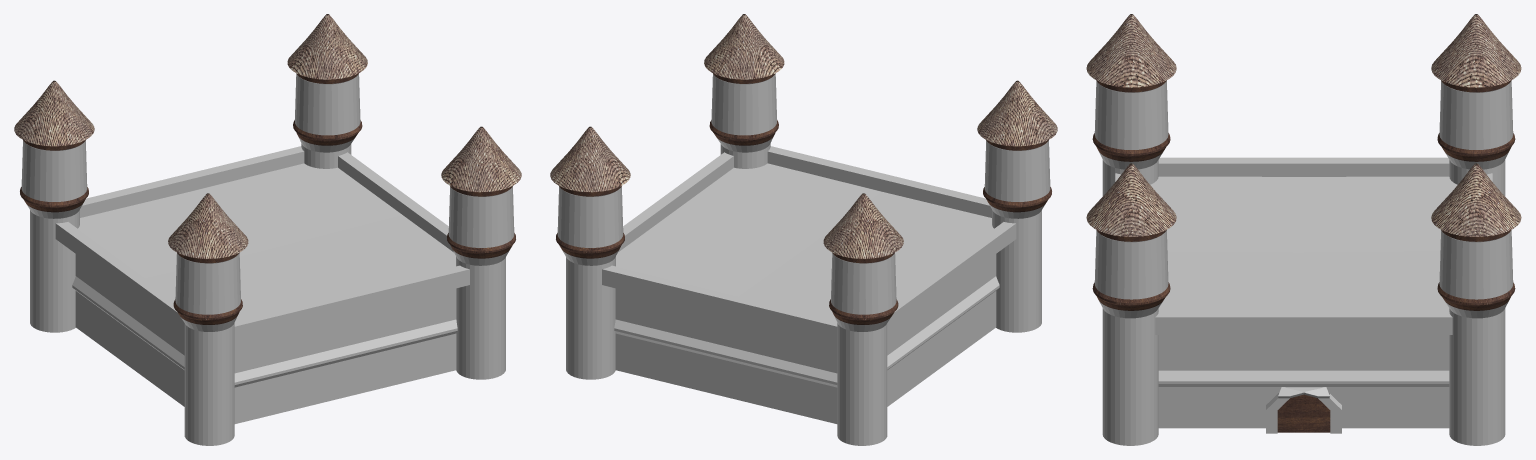
File: castle 1.fbx
The picture shows the model from 3 angles, left to right: view 1: azimuth 30°, elevation 25°; view 2: azimuth 150°, elevation 25°; view 3: azimuth 270°, elevation 25°; orthographic projection. The views are drawn at different scales.
Parts seen in each view (by area): view 1: Cube, Cylinder; view 2: Cube, Cylinder; view 3: Cube, Cylinder, Plane, Cube.002.
Boxes of the visible parts, x1,y1,x2,y2 form: Cube: (55, 146, 469, 423); Cylinder: (14, 14, 521, 445); Cube: (602, 146, 1016, 423); Cylinder: (550, 14, 1057, 445); Cube: (1115, 157, 1492, 428); Cylinder: (1086, 14, 1521, 445); Plane: (1277, 394, 1330, 432); Cube.002: (1266, 387, 1341, 433).
Bounding box in the file's own units: 11314 × 7606 × 11089.
